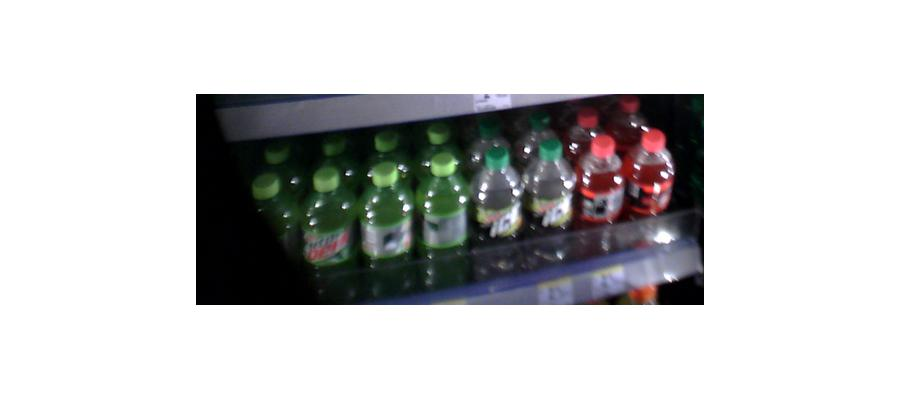bottle: (359, 155, 415, 297), (304, 162, 356, 298), (417, 152, 469, 287), (473, 140, 521, 261), (575, 135, 621, 254), (526, 134, 572, 252), (623, 130, 672, 227)
